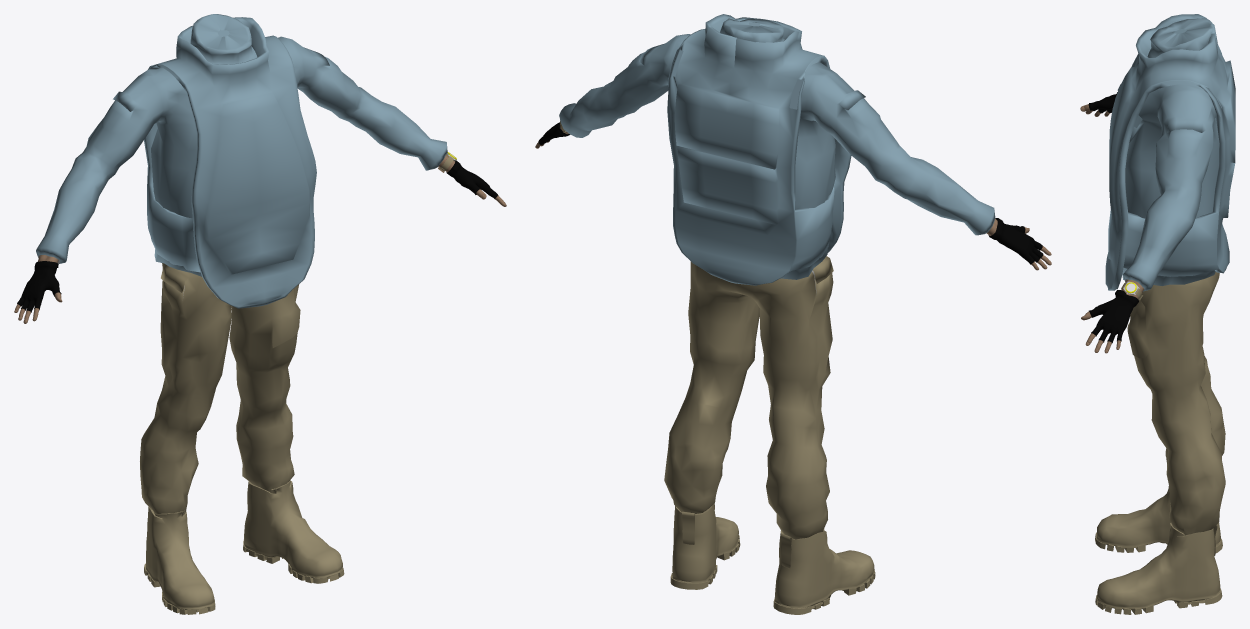
Rendered from character.fbx.
The picture shows the model from 3 angles, left to right: view 1: azimuth 30°, elevation 25°; view 2: azimuth 150°, elevation 25°; view 3: azimuth 270°, elevation 25°; orthographic projection. The views are drawn at different scales.
Parts seen in each view (by area): view 1: soldier; view 2: soldier; view 3: soldier.
Part boxes in pixels (box(x1,y1,x2,y2)): soldier: box(14, 14, 506, 614); soldier: box(535, 14, 1051, 614); soldier: box(1080, 14, 1235, 614).
Bounding box in the file's own units: 6.14 × 6.59 × 1.69.
